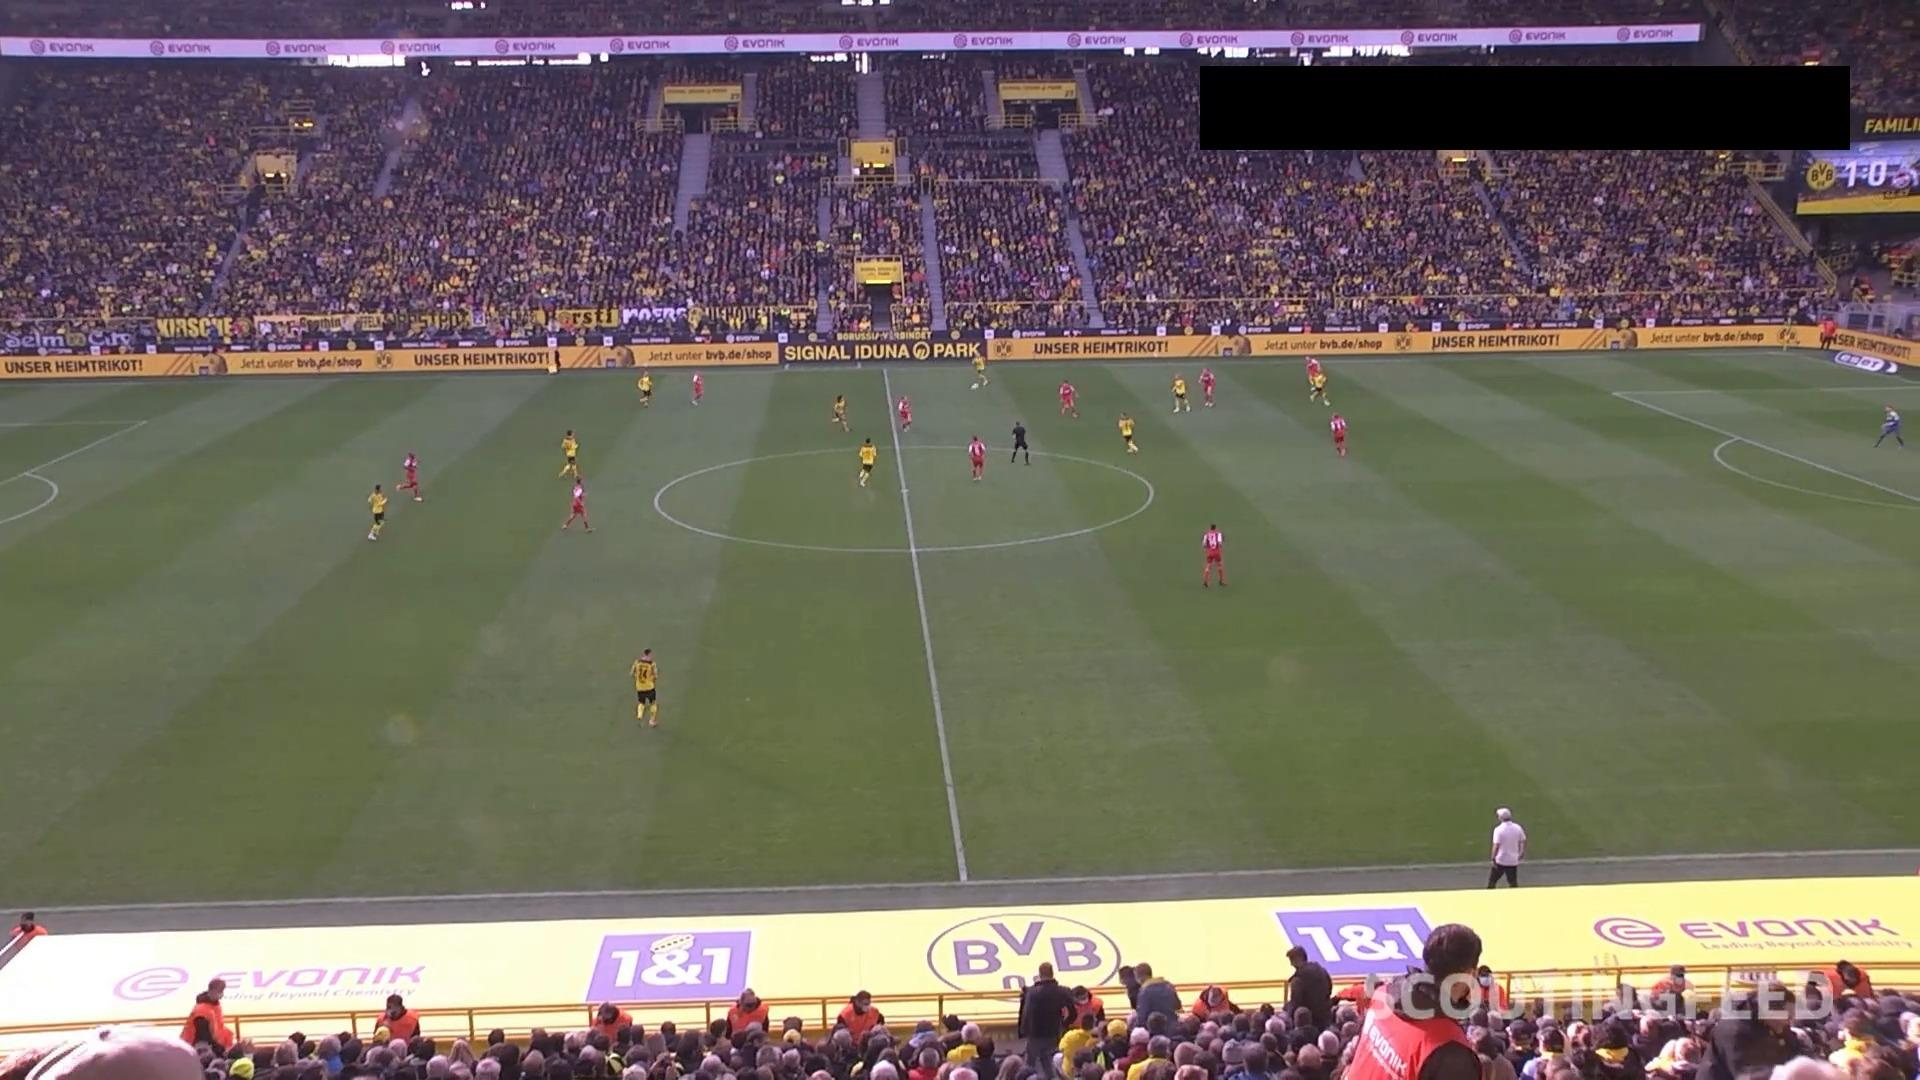coach: (1486, 806, 1526, 888)
fan: (1016, 960, 1078, 1068), (1282, 945, 1332, 1029), (1117, 963, 1141, 1010)
player: (629, 647, 659, 728), (560, 474, 593, 532), (1200, 522, 1226, 587), (394, 451, 423, 501), (1872, 403, 1904, 447), (1304, 355, 1330, 406), (365, 483, 387, 541), (557, 427, 579, 478), (856, 436, 876, 487), (1116, 410, 1139, 454), (1057, 378, 1079, 418), (967, 435, 986, 481), (1328, 411, 1347, 455), (1169, 374, 1190, 413), (969, 347, 988, 390), (1197, 365, 1216, 408), (831, 392, 850, 432), (1304, 354, 1320, 392), (636, 370, 652, 407), (896, 394, 912, 431), (689, 371, 703, 405)
referee: (1009, 419, 1031, 465), (544, 344, 567, 373)
